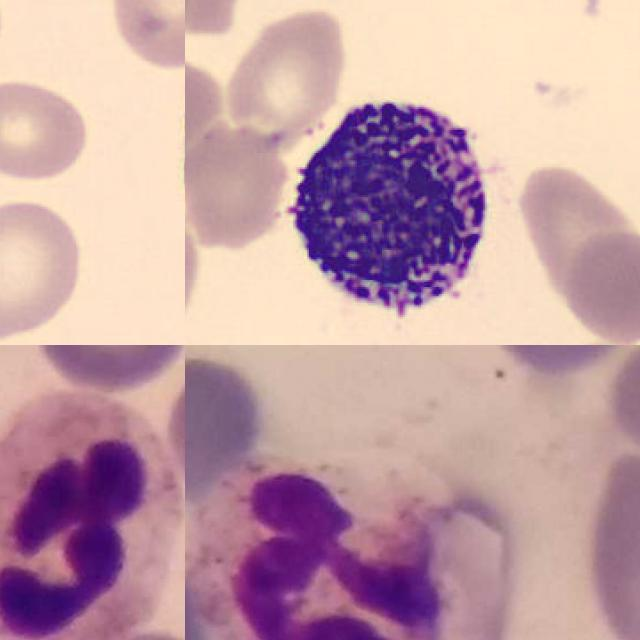Basophil: (270, 83, 504, 342)
Neutrophil: (0, 385, 185, 640), (185, 459, 438, 640)
RBC: (508, 156, 640, 345), (222, 1, 352, 153), (0, 196, 88, 344), (0, 73, 93, 184), (561, 227, 640, 345), (185, 52, 229, 190), (104, 0, 185, 69)
